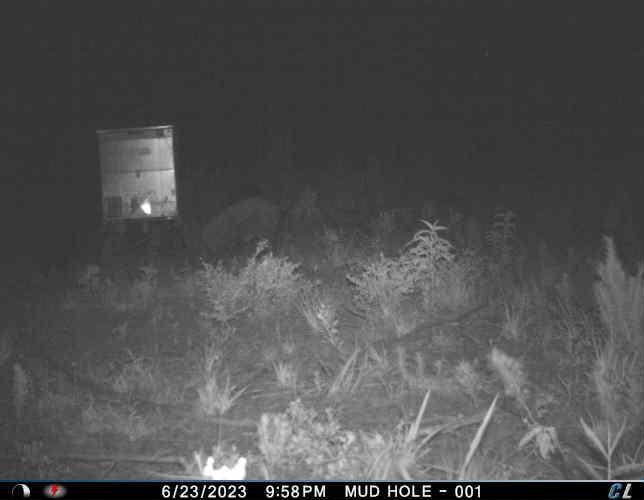Hog: (190, 192, 285, 268)
